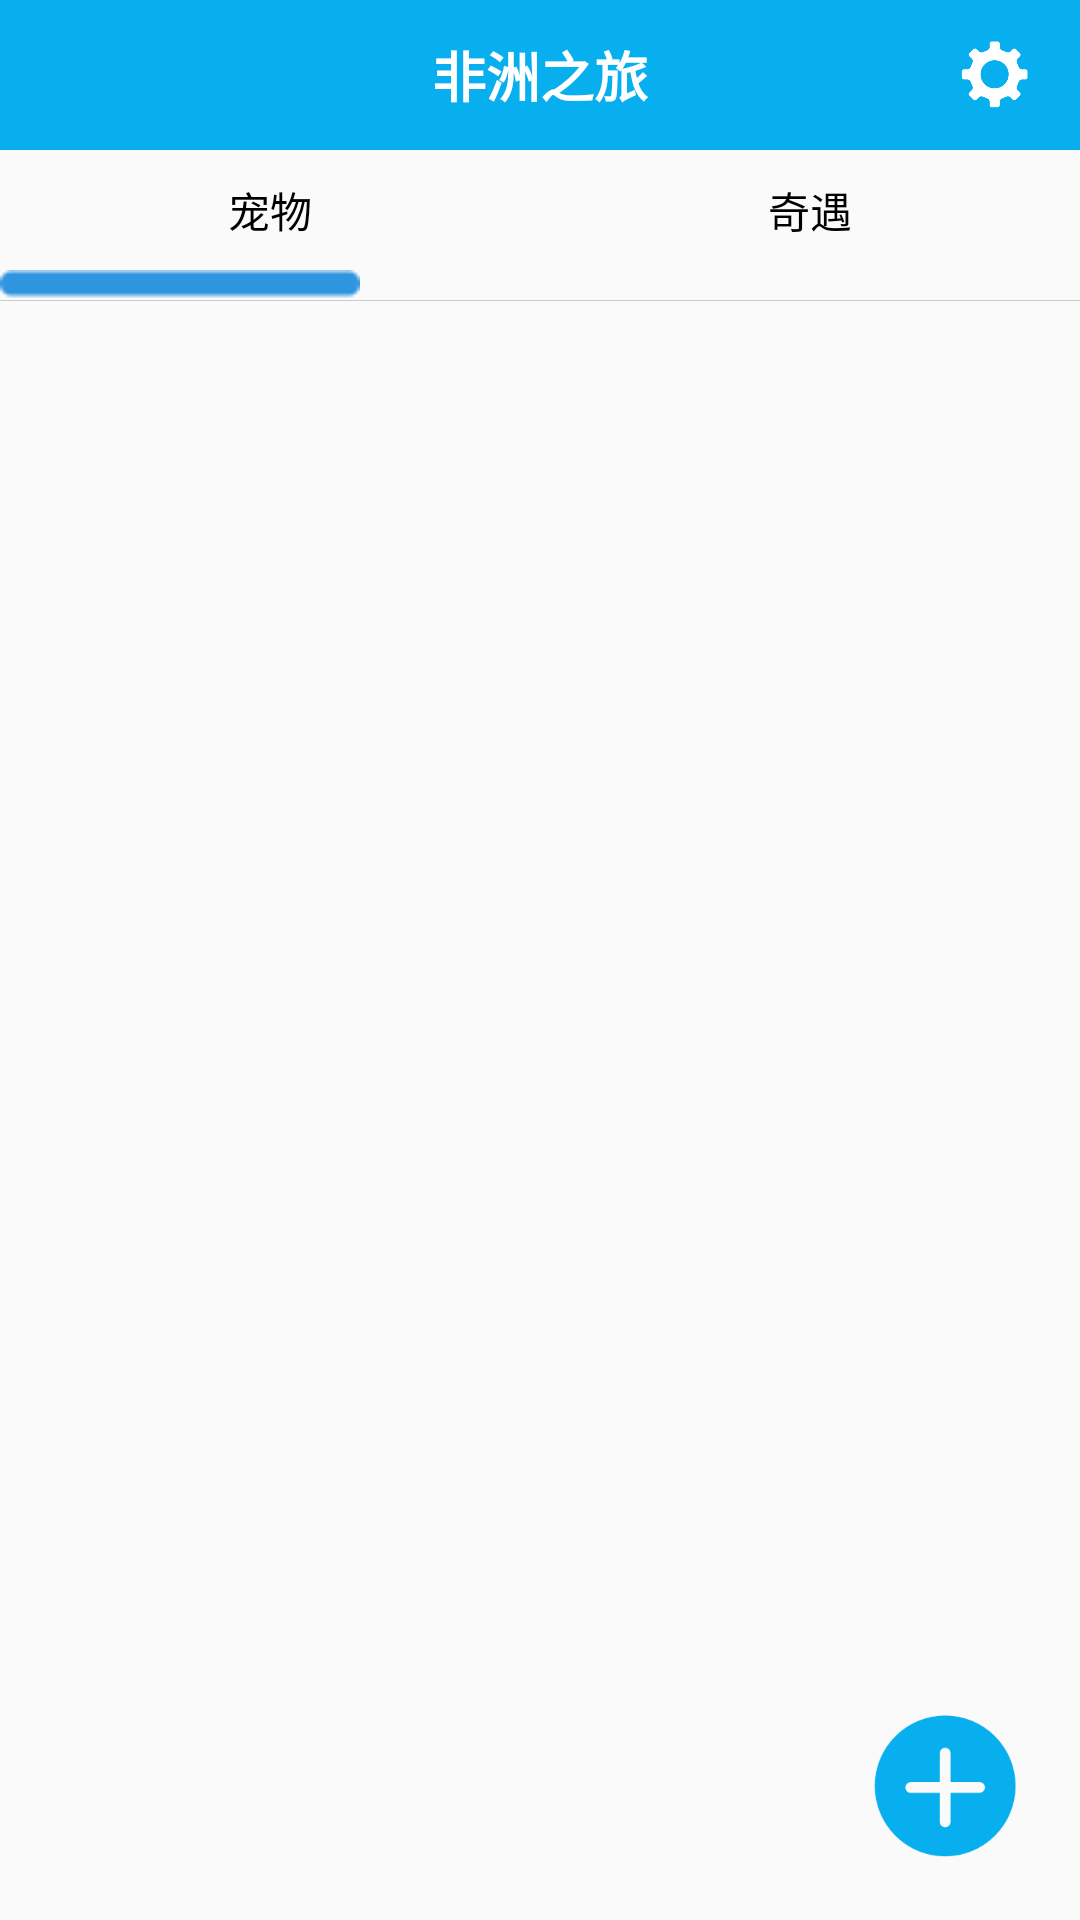

Icons on this 1080x1920 Android screen, each with its box as box(x1, y1, x2, y2):
add: box(874, 1715, 1016, 1857)
setting: box(961, 41, 1028, 108)
